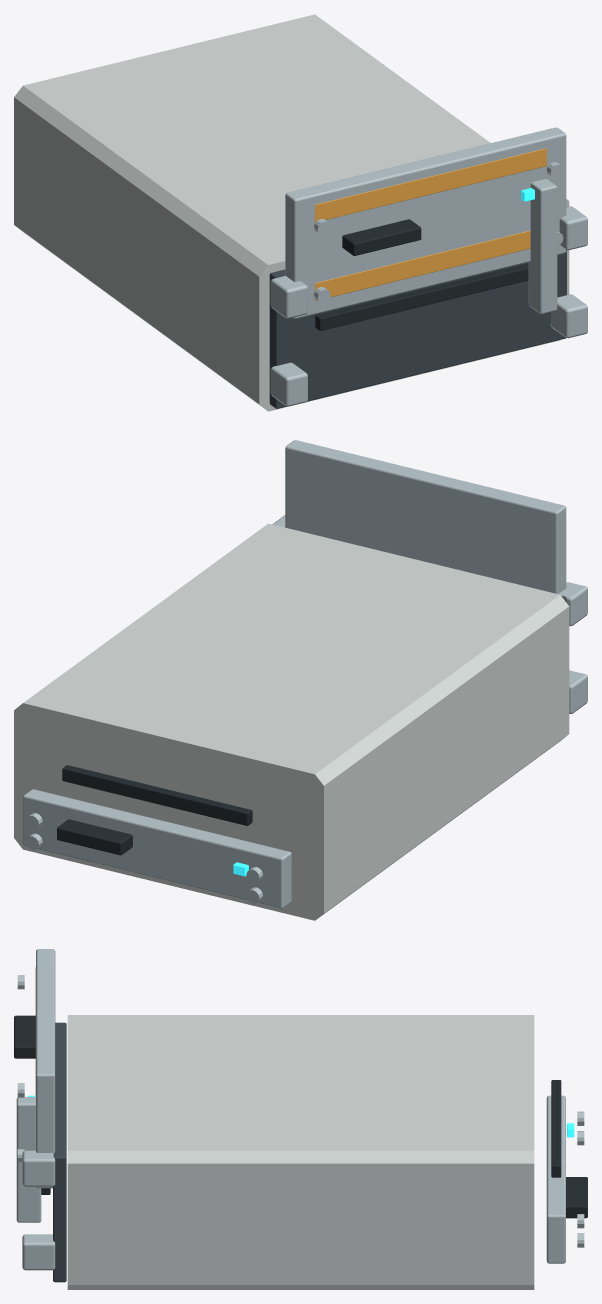
Rendered from data-centre-infiltration-kit-data-centre-infiltration--13dbadb3__29231.glb.
3 views of the same model, one above another, from view 1: azimuth 30°, elevation 25°; view 2: azimuth 150°, elevation 25°; view 3: azimuth 270°, elevation 25° (orthographic). The views are drawn at different scales.
Visible parts, largest first — view 1: data-centre-infiltration-kit-rack-ups; view 2: data-centre-infiltration-kit-rack-ups; view 3: data-centre-infiltration-kit-rack-ups.
Part boxes in pixels (x1=…): data-centre-infiltration-kit-rack-ups: x1=14, y1=14, x2=587, y2=411; data-centre-infiltration-kit-rack-ups: x1=14, y1=440, x2=587, y2=920; data-centre-infiltration-kit-rack-ups: x1=14, y1=949, x2=587, y2=1289.
Size of the model in its own units: 0.62 by 0.4232 by 1.04.
